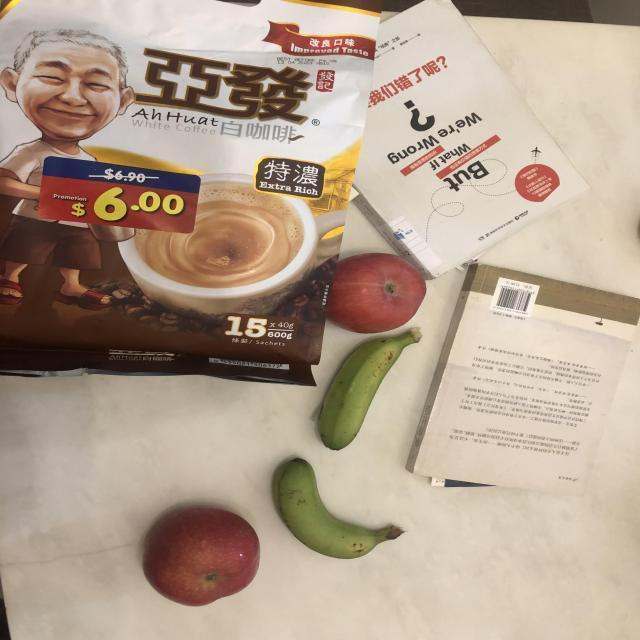Apple: (129, 489, 276, 614), (306, 246, 447, 346)
Banana: (266, 455, 432, 574), (320, 313, 429, 447)
Book: (289, 0, 595, 280), (402, 264, 640, 496)
